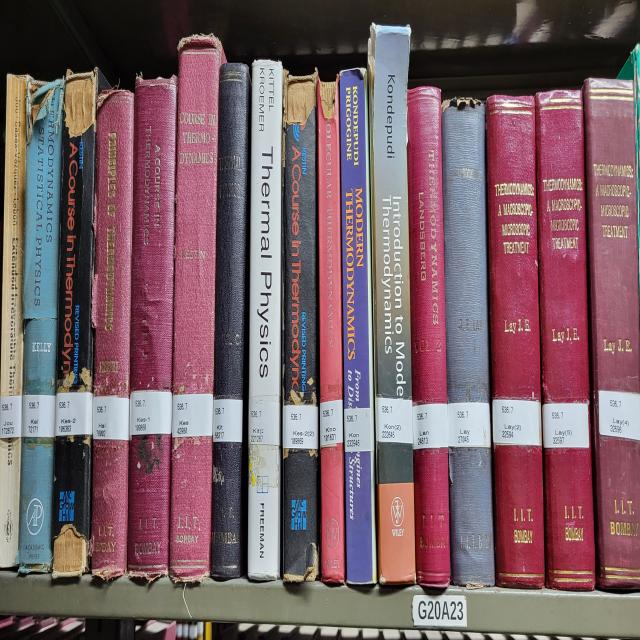Book: (169, 35, 225, 582), (535, 89, 595, 590), (486, 95, 545, 587), (584, 78, 640, 587), (441, 97, 495, 587), (369, 24, 415, 584), (128, 76, 178, 582), (52, 70, 98, 579), (18, 78, 65, 574), (90, 89, 134, 579), (408, 87, 450, 587), (211, 62, 250, 579), (339, 70, 376, 584), (282, 73, 319, 582), (248, 60, 282, 579), (316, 78, 345, 584), (0, 76, 28, 568)
Label: (492, 398, 541, 446), (542, 403, 589, 449), (599, 390, 640, 441), (130, 390, 172, 438), (448, 403, 491, 449), (172, 392, 214, 438), (92, 395, 130, 441), (375, 398, 412, 444), (412, 403, 449, 449), (55, 392, 92, 436), (282, 406, 319, 449), (21, 395, 56, 438), (249, 398, 280, 446), (212, 398, 242, 444), (344, 409, 374, 452), (320, 400, 344, 446), (0, 395, 22, 438)
